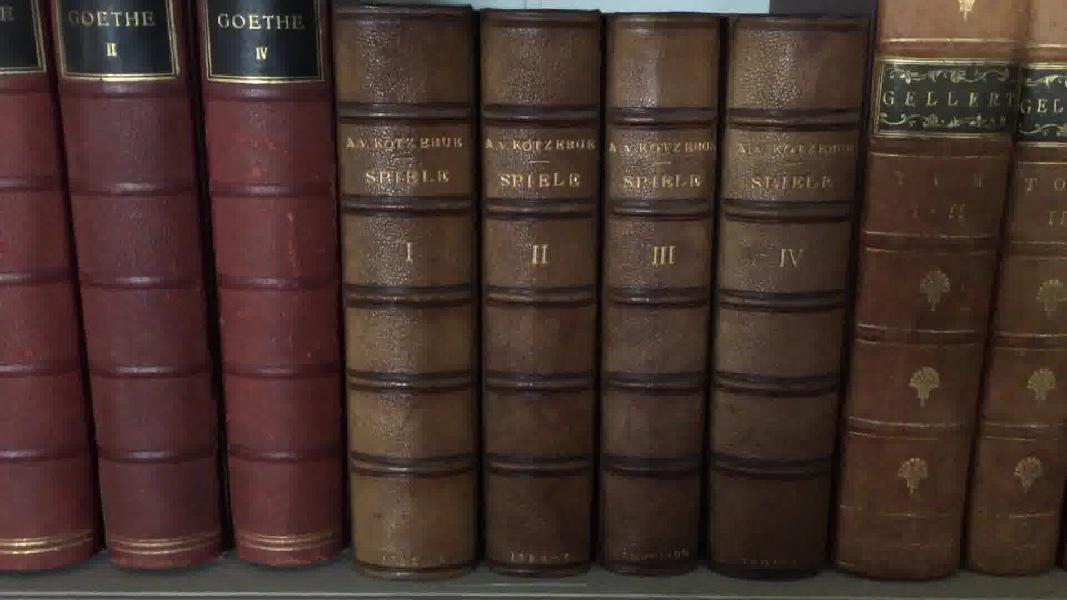Aa6-14_17: (327, 4, 855, 581)
